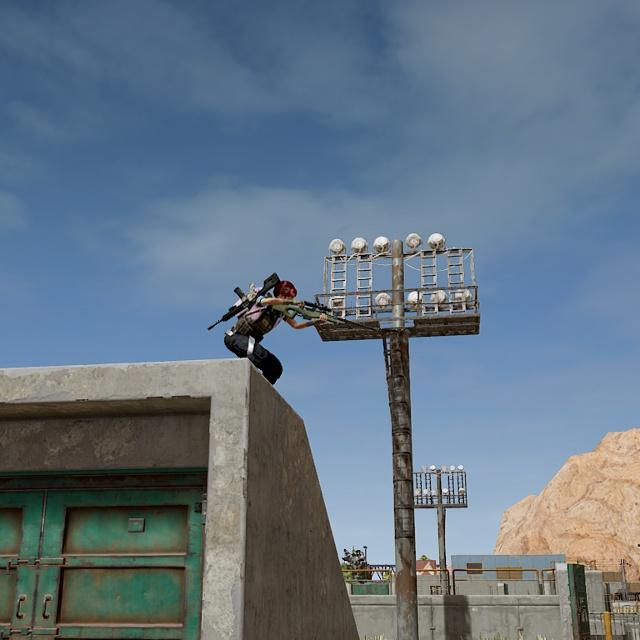head: (270, 277, 299, 302)
people: (224, 276, 300, 386)
